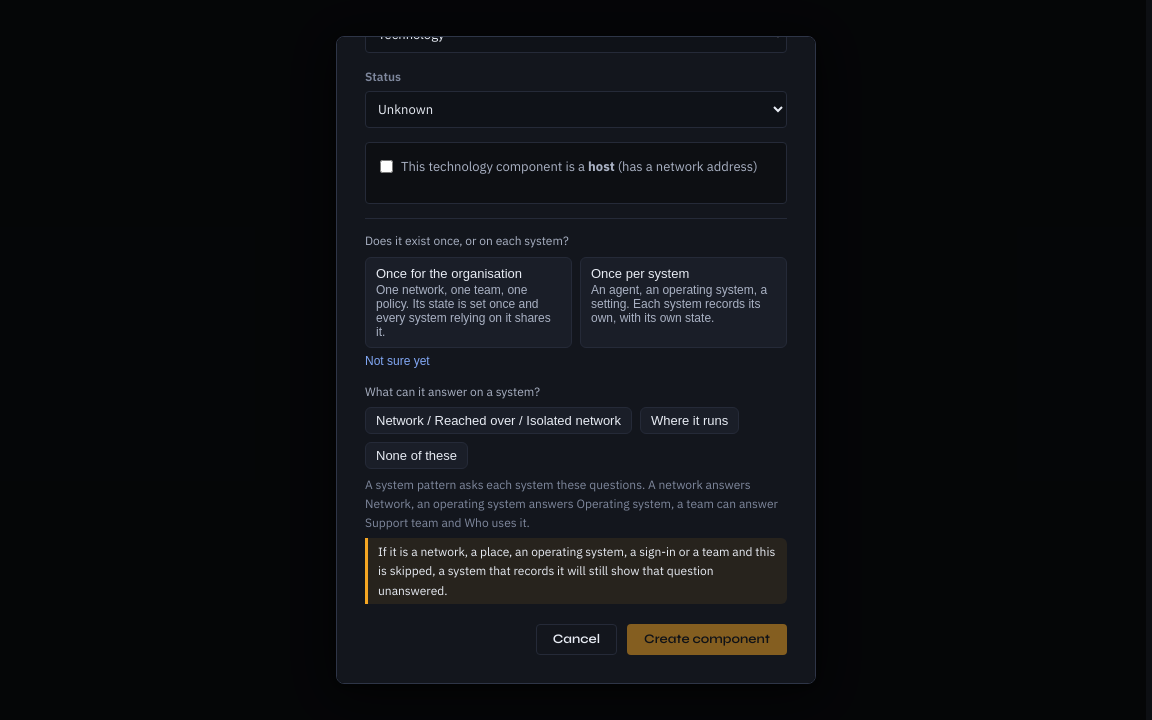
Test: the one panel a component is created from › creating it states its scope and the roles it can answer, in one go
Later steps or results of the test are not shown.
(page scrolled)
What coordinates should you click on to do the following:
click the button "Network / Reached over / Isolated network"
I would click on:
 (498, 420)
Its box is 365,407 -> 632,434.
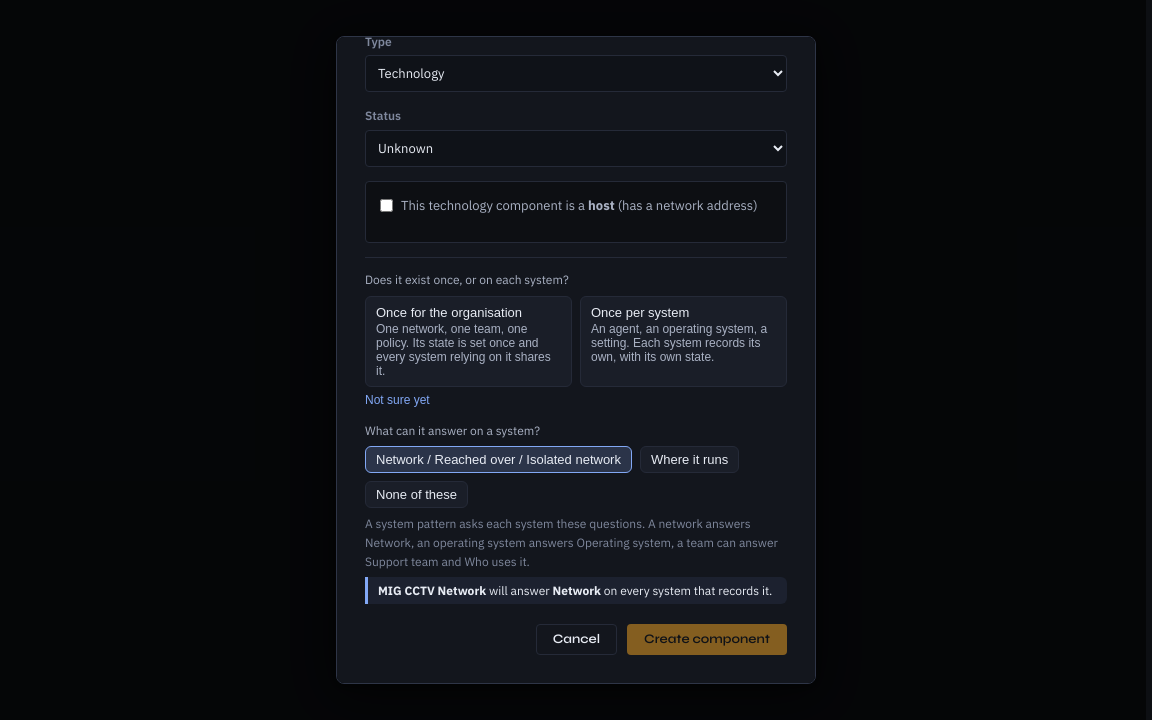
What coordinates should you click on to do the following:
click the button "Once for the organisation"
I would click on:
 (468, 341)
Its box is 365,296 -> 572,386.
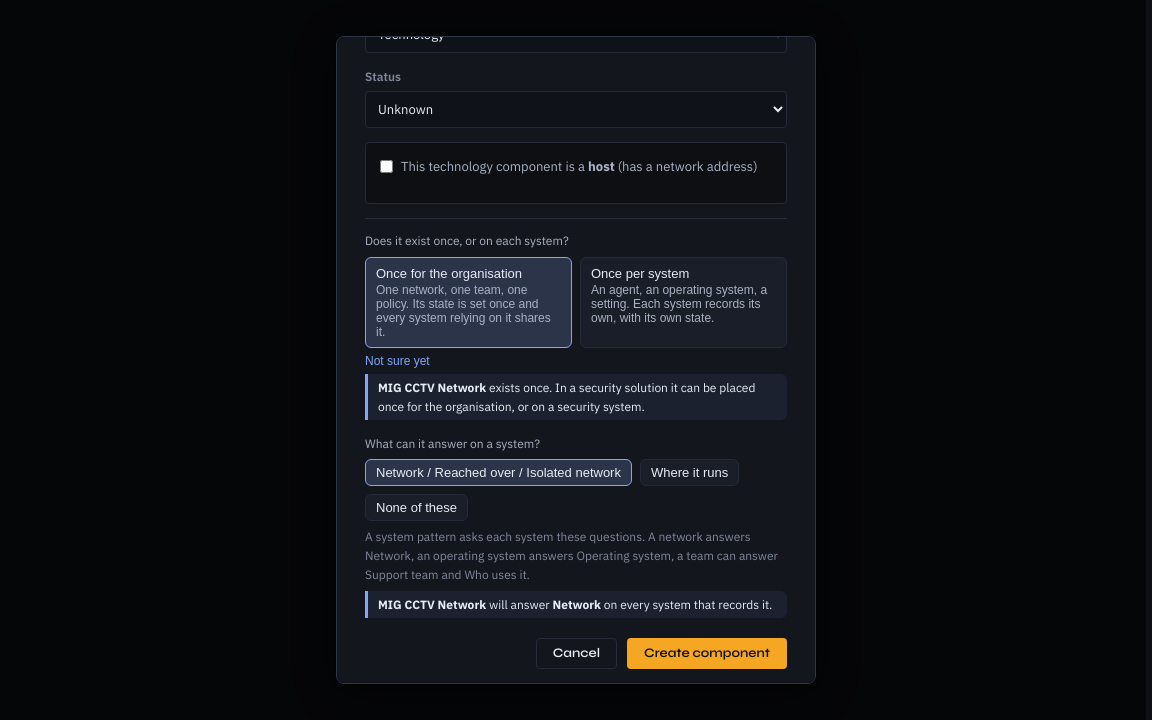
Check: the text "on every system that records it" is shown, box 601,597 -> 772,612
